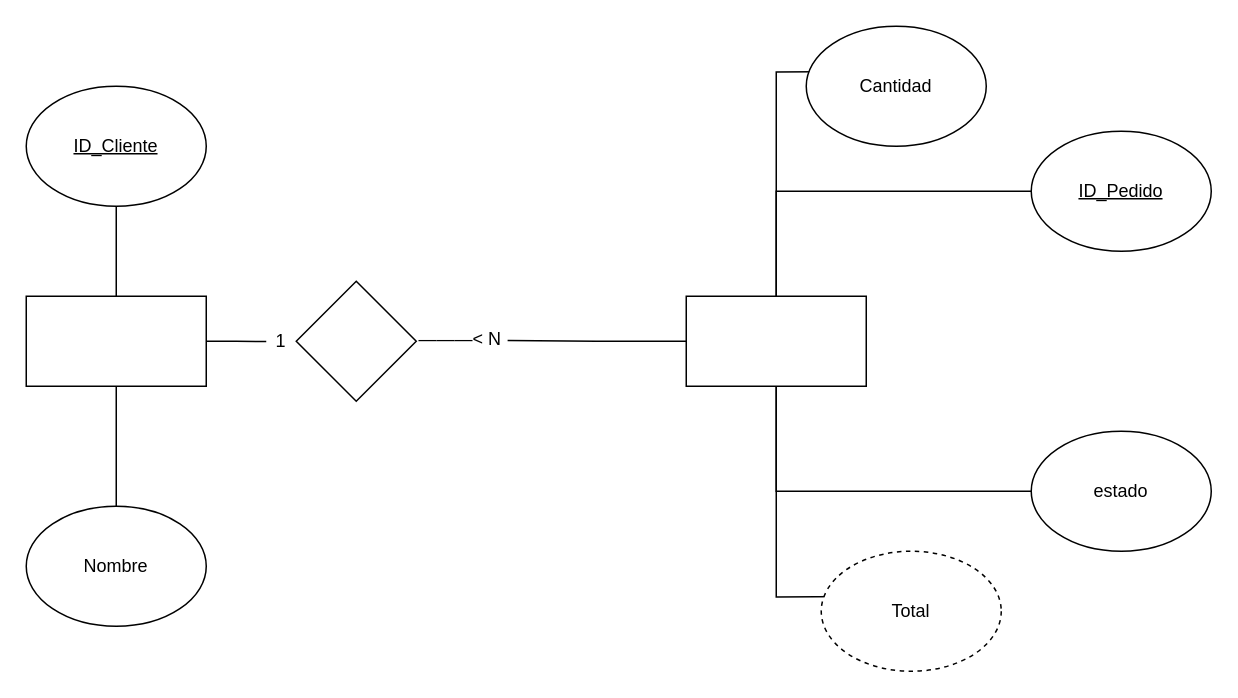
The diagram is 1238 pixels wide and 698 high, and some of its shapes have lost their labels. The shapes that lost their labels are listed below. From the top down, each one's box as (x1, y1, x2, y2) in pixels, then its label:
(25, 295, 206, 386): CLIENTE
(295, 280, 416, 401): REALIZA
(685, 295, 866, 386): PEDIDO
